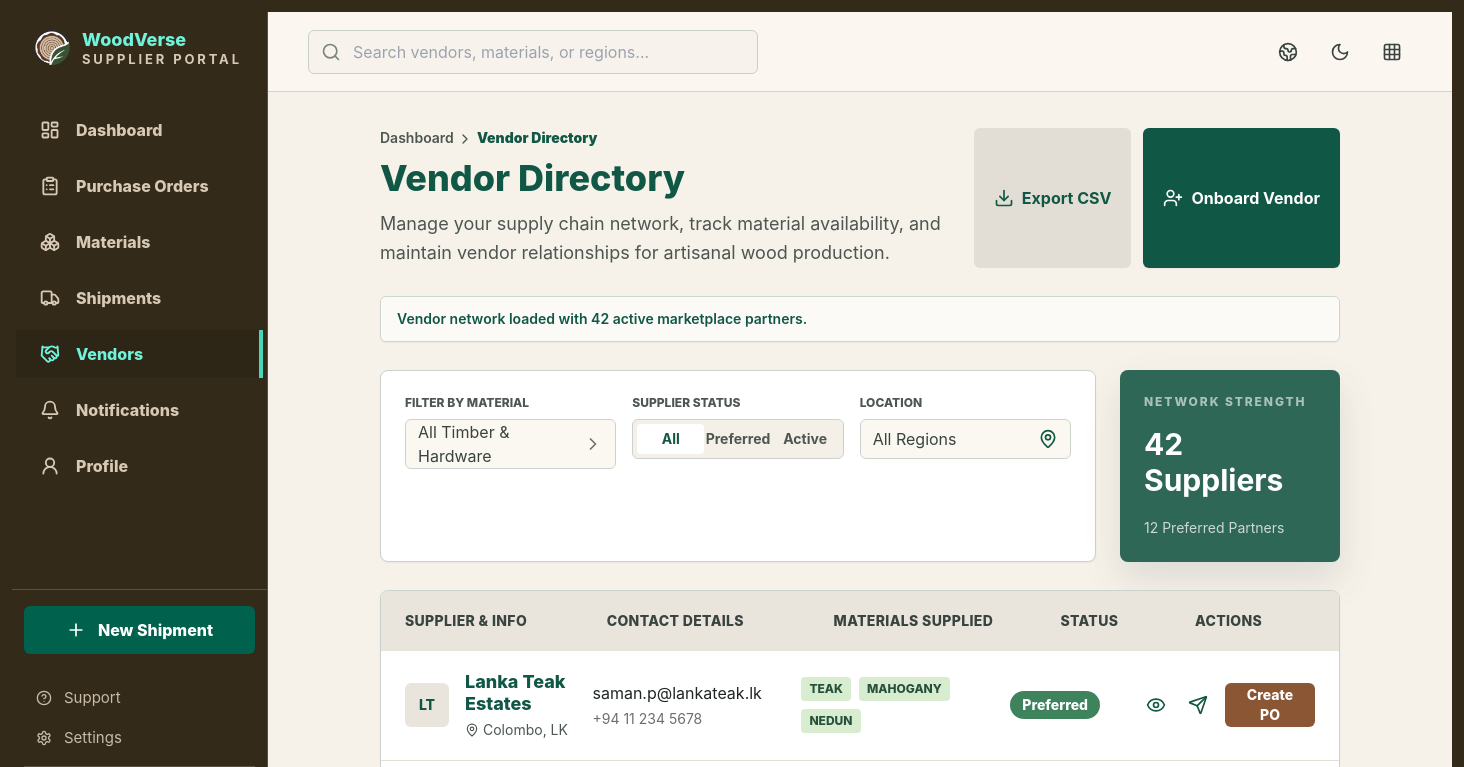
Test case: SupplierVendorsPage filters › narrows the directory by material
Click the button "All Timber & Hardware".
click(511, 444)  # box [405, 418, 616, 468]
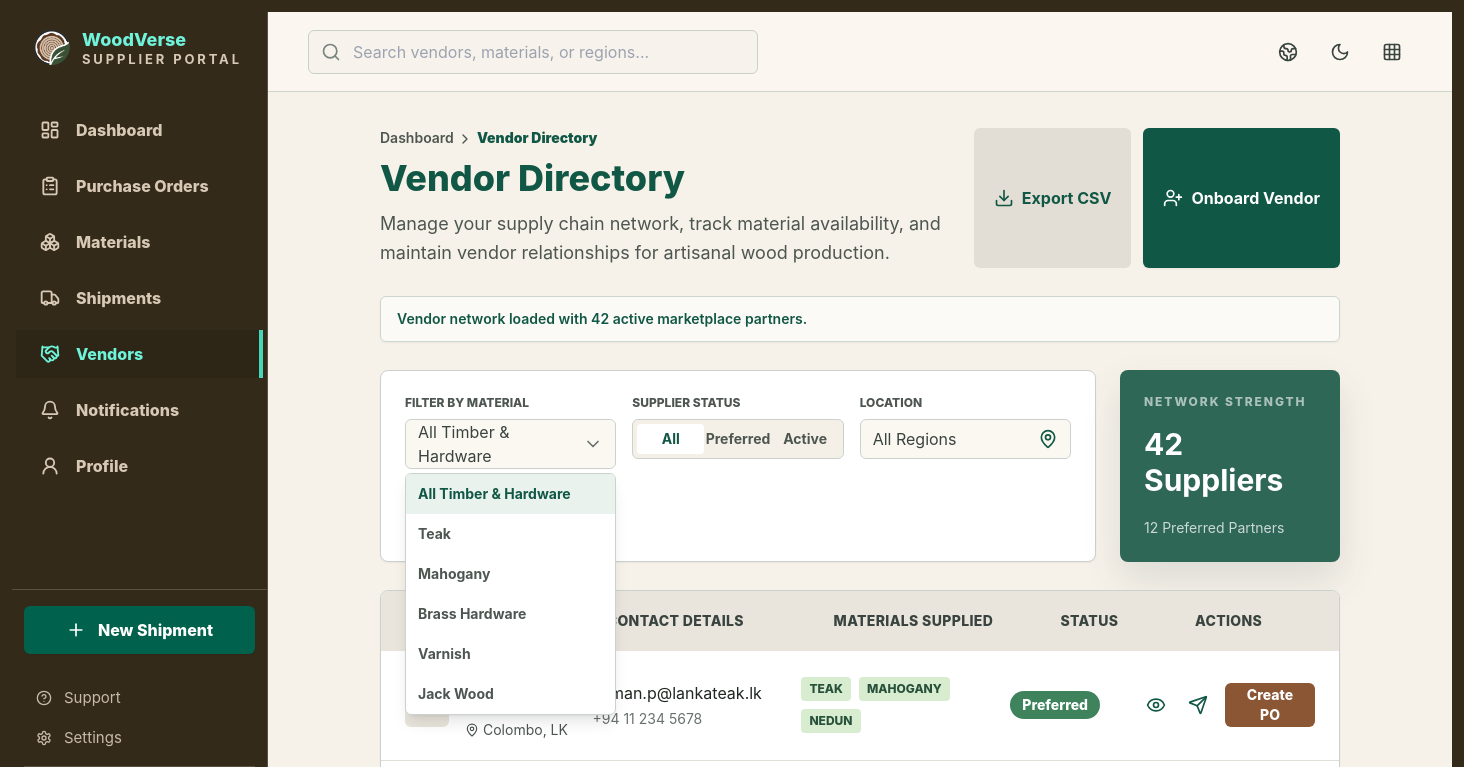
Click the option "Varnish".
click(511, 654)  # box [406, 634, 615, 674]
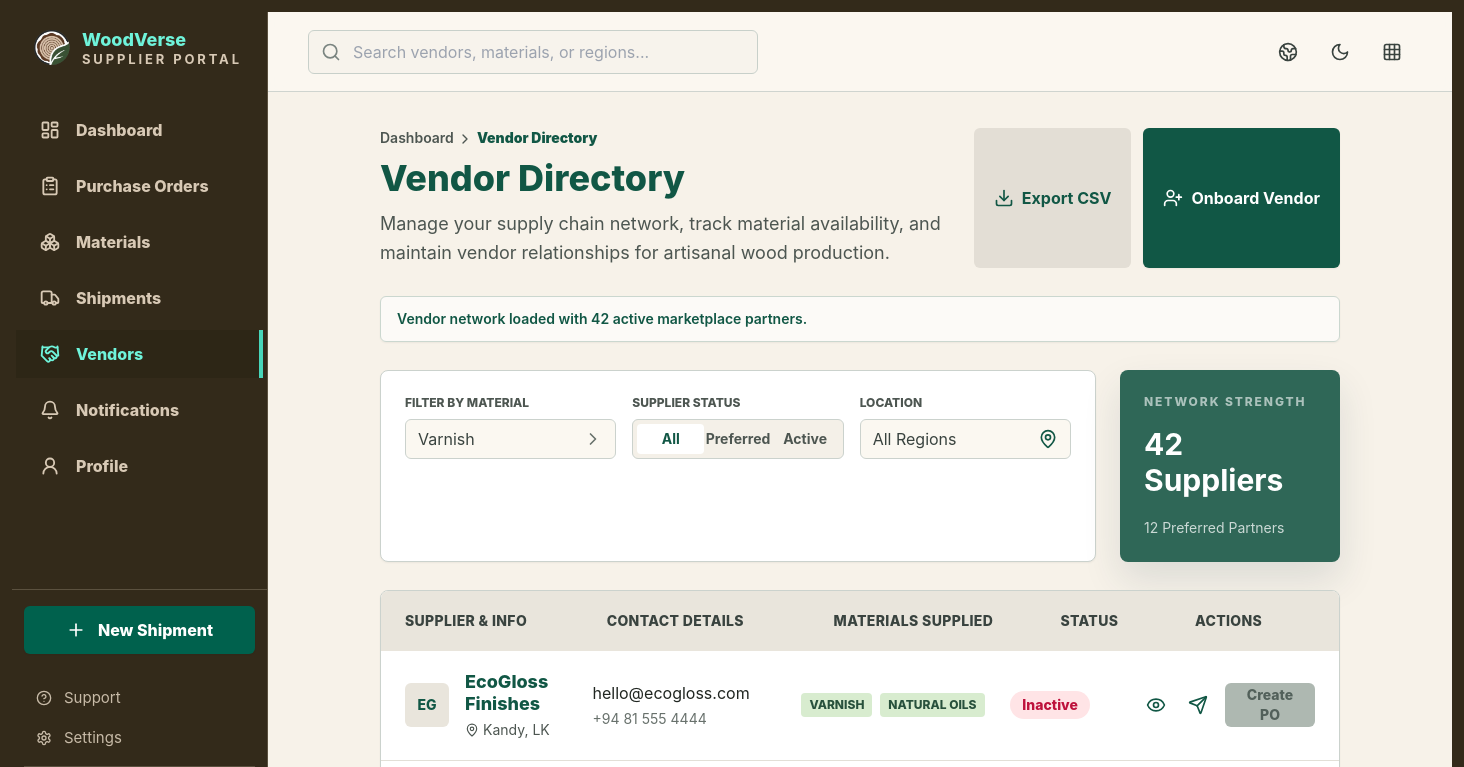
Expected: the heading "EcoGloss Finishes" is shown, [465, 670, 548, 714]
Now the heading "Lanka Teak Estates" is gone
